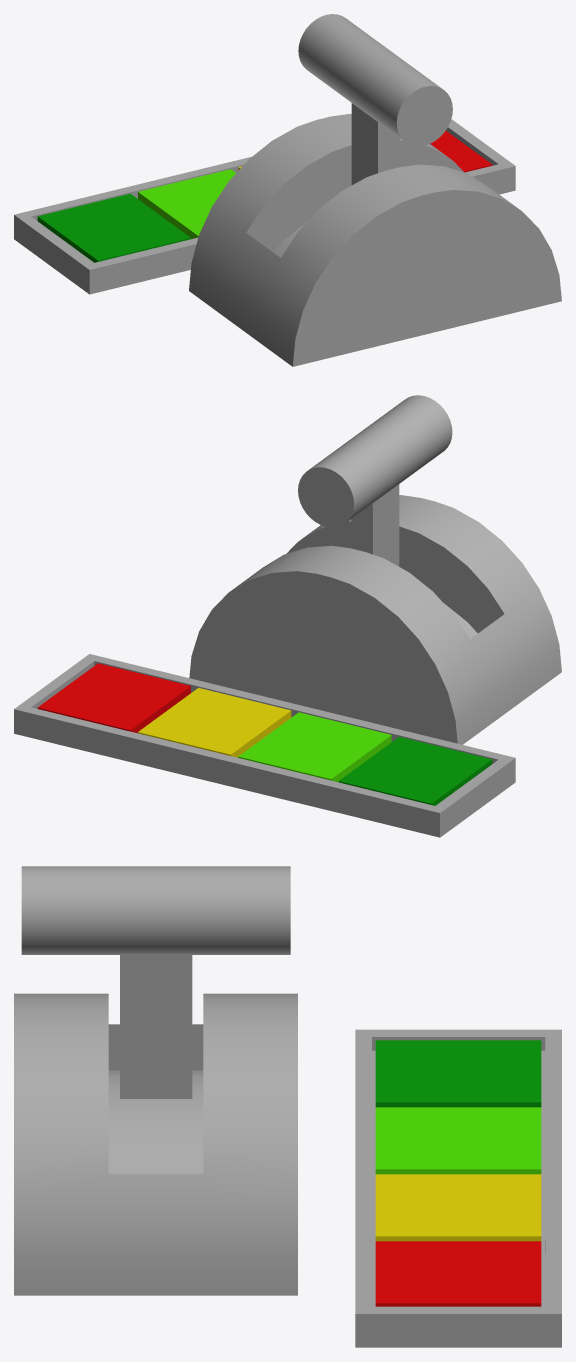
The model's file is lever_control.fbx.
The picture shows the model from 3 angles, top to bottom: view 1: azimuth 30°, elevation 25°; view 2: azimuth 150°, elevation 25°; view 3: azimuth 270°, elevation 25°; orthographic projection. The views are drawn at different scales.
Parts seen in each view (by area): view 1: Lever_Holder, Speed_Level, Lever; view 2: Lever_Holder, Speed_Level, Lever; view 3: Lever_Holder, Speed_Level, Lever.
Part boxes in pixels (bbox=[...]): Lever_Holder: bbox=[189, 114, 561, 366]; Speed_Level: bbox=[14, 119, 515, 294]; Lever: bbox=[298, 14, 452, 185]; Lever_Holder: bbox=[189, 495, 561, 744]; Speed_Level: bbox=[14, 654, 515, 837]; Lever: bbox=[298, 395, 452, 566]; Lever_Holder: bbox=[14, 993, 297, 1295]; Speed_Level: bbox=[355, 1029, 561, 1347]; Lever: bbox=[21, 866, 290, 1098].
Size of the model in its own units: 67.69 by 37.23 by 55.11.
